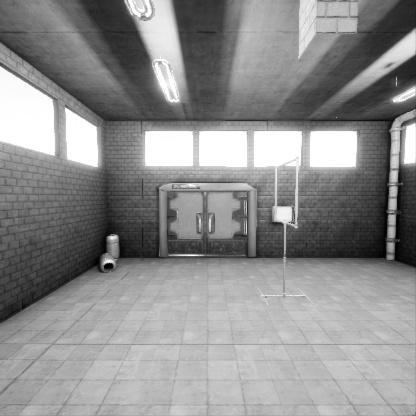gate: (275, 191, 299, 262)
